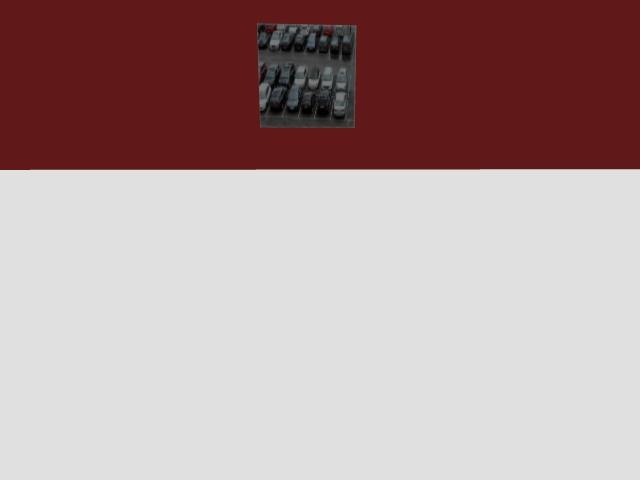vehicle: (269, 86, 286, 110), (286, 85, 302, 110), (278, 62, 294, 87), (263, 63, 280, 86), (333, 91, 347, 117), (316, 90, 331, 113), (259, 83, 271, 111), (300, 91, 315, 112), (320, 67, 333, 89), (335, 68, 347, 90), (294, 65, 306, 87), (269, 30, 282, 50), (308, 66, 319, 89), (341, 35, 353, 55), (280, 32, 293, 50), (294, 33, 306, 50), (318, 35, 330, 52), (258, 32, 270, 48), (330, 35, 340, 54), (306, 33, 316, 51), (259, 62, 266, 82), (286, 24, 298, 34), (323, 25, 333, 35), (299, 25, 309, 35), (264, 24, 275, 33), (310, 25, 321, 34), (334, 25, 343, 36), (343, 25, 351, 36), (275, 24, 285, 32), (257, 24, 264, 33)
